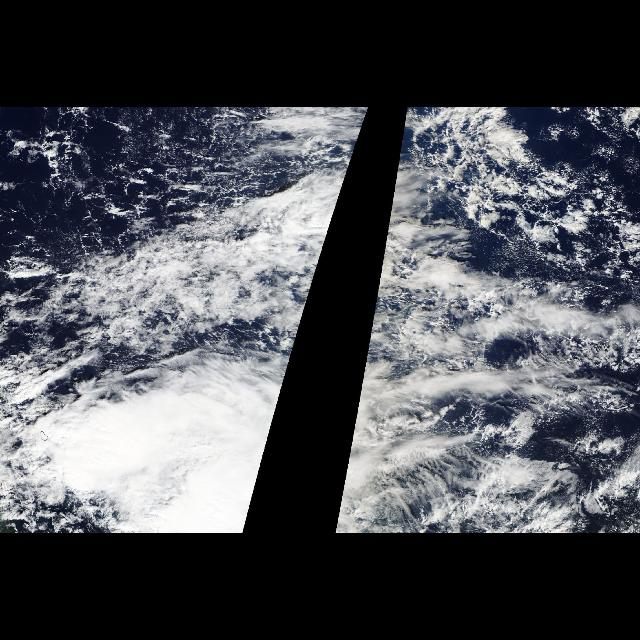Gravel: (42, 108, 294, 210)
